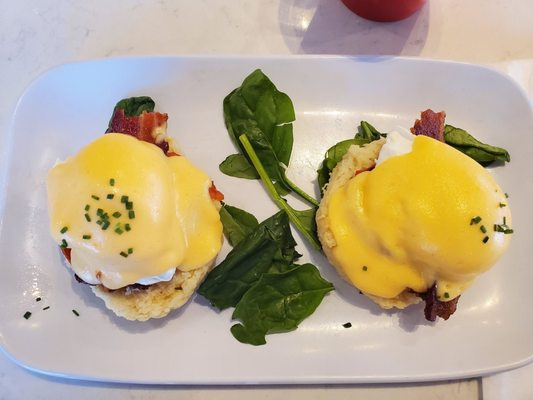soup: (46, 108, 226, 322)
